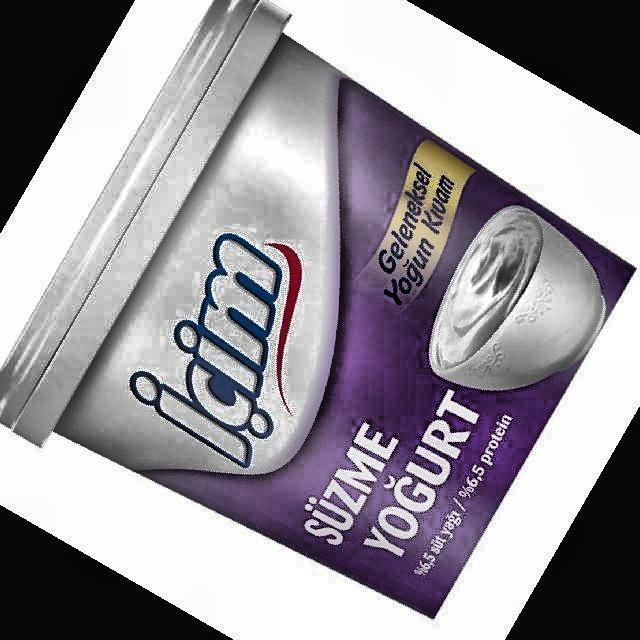plastic: (0, 0, 631, 614)
